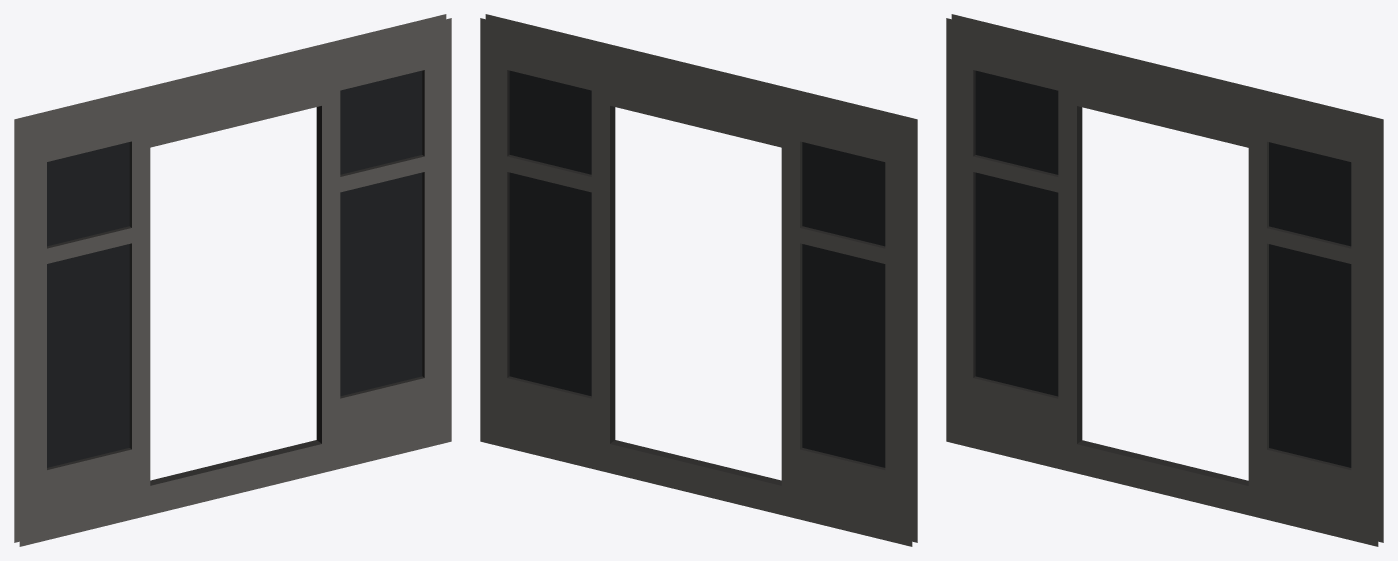
Rendered from SO_Wall_Glass_Door.fbx.
3 renders of one model, left to right at view 1: azimuth 30°, elevation 25°; view 2: azimuth 150°, elevation 25°; view 3: azimuth 330°, elevation 25°, orthographic.
Parts seen in each view (by area): view 1: SO_Wall_Glass_Door, SO_Glass_Door; view 2: SO_Wall_Glass_Door, SO_Glass_Door; view 3: SO_Wall_Glass_Door, SO_Glass_Door.
Boxes of the visible parts, bbox=[...] form: SO_Wall_Glass_Door: bbox=[14, 14, 451, 546]; SO_Glass_Door: bbox=[47, 70, 422, 467]; SO_Wall_Glass_Door: bbox=[480, 14, 917, 546]; SO_Glass_Door: bbox=[509, 70, 885, 467]; SO_Wall_Glass_Door: bbox=[946, 14, 1383, 546]; SO_Glass_Door: bbox=[975, 70, 1351, 467].
Bounding box in the file's own units: 5 × 4.69 × 0.1098.
